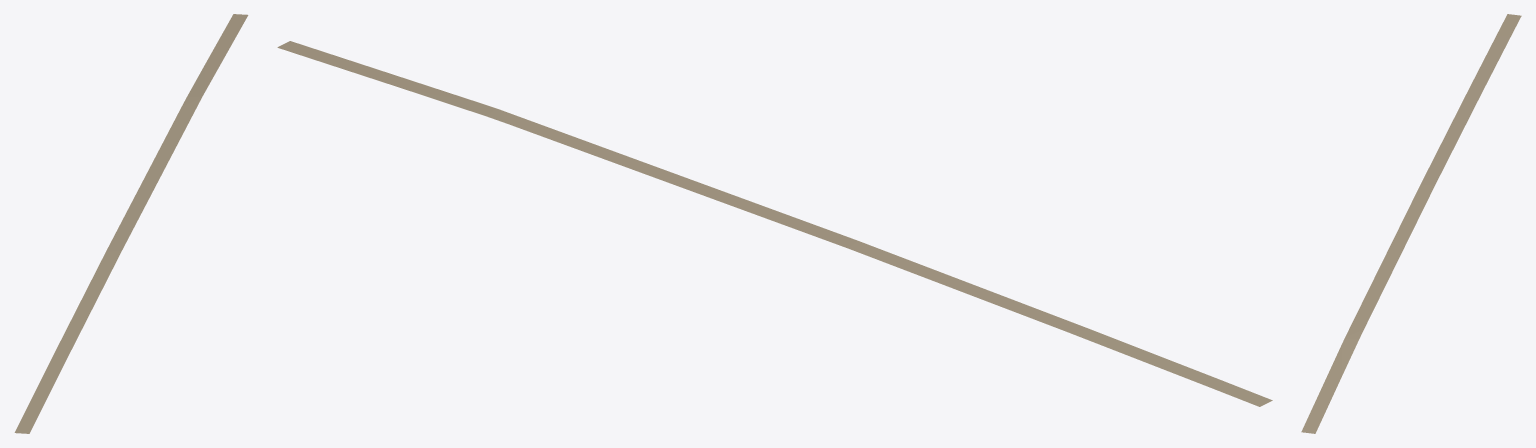
Rendered from farm_8_11_track.glb.
3 views of the same model, side by side, from view 1: azimuth 90°, elevation 25°; view 2: azimuth 150°, elevation 25°; view 3: azimuth 270°, elevation 25° (orthographic). The views are drawn at different scales.
Parts seen in each view (by area): view 1: geometry_0; view 2: geometry_0; view 3: geometry_0.
Part boxes in pixels (x1=…): geometry_0: x1=14, y1=14, x2=248, y2=433; geometry_0: x1=277, y1=41, x2=1272, y2=406; geometry_0: x1=1301, y1=14, x2=1521, y2=433.
Bounding box in the file's own units: 218 × 3.3 × 49.78.
